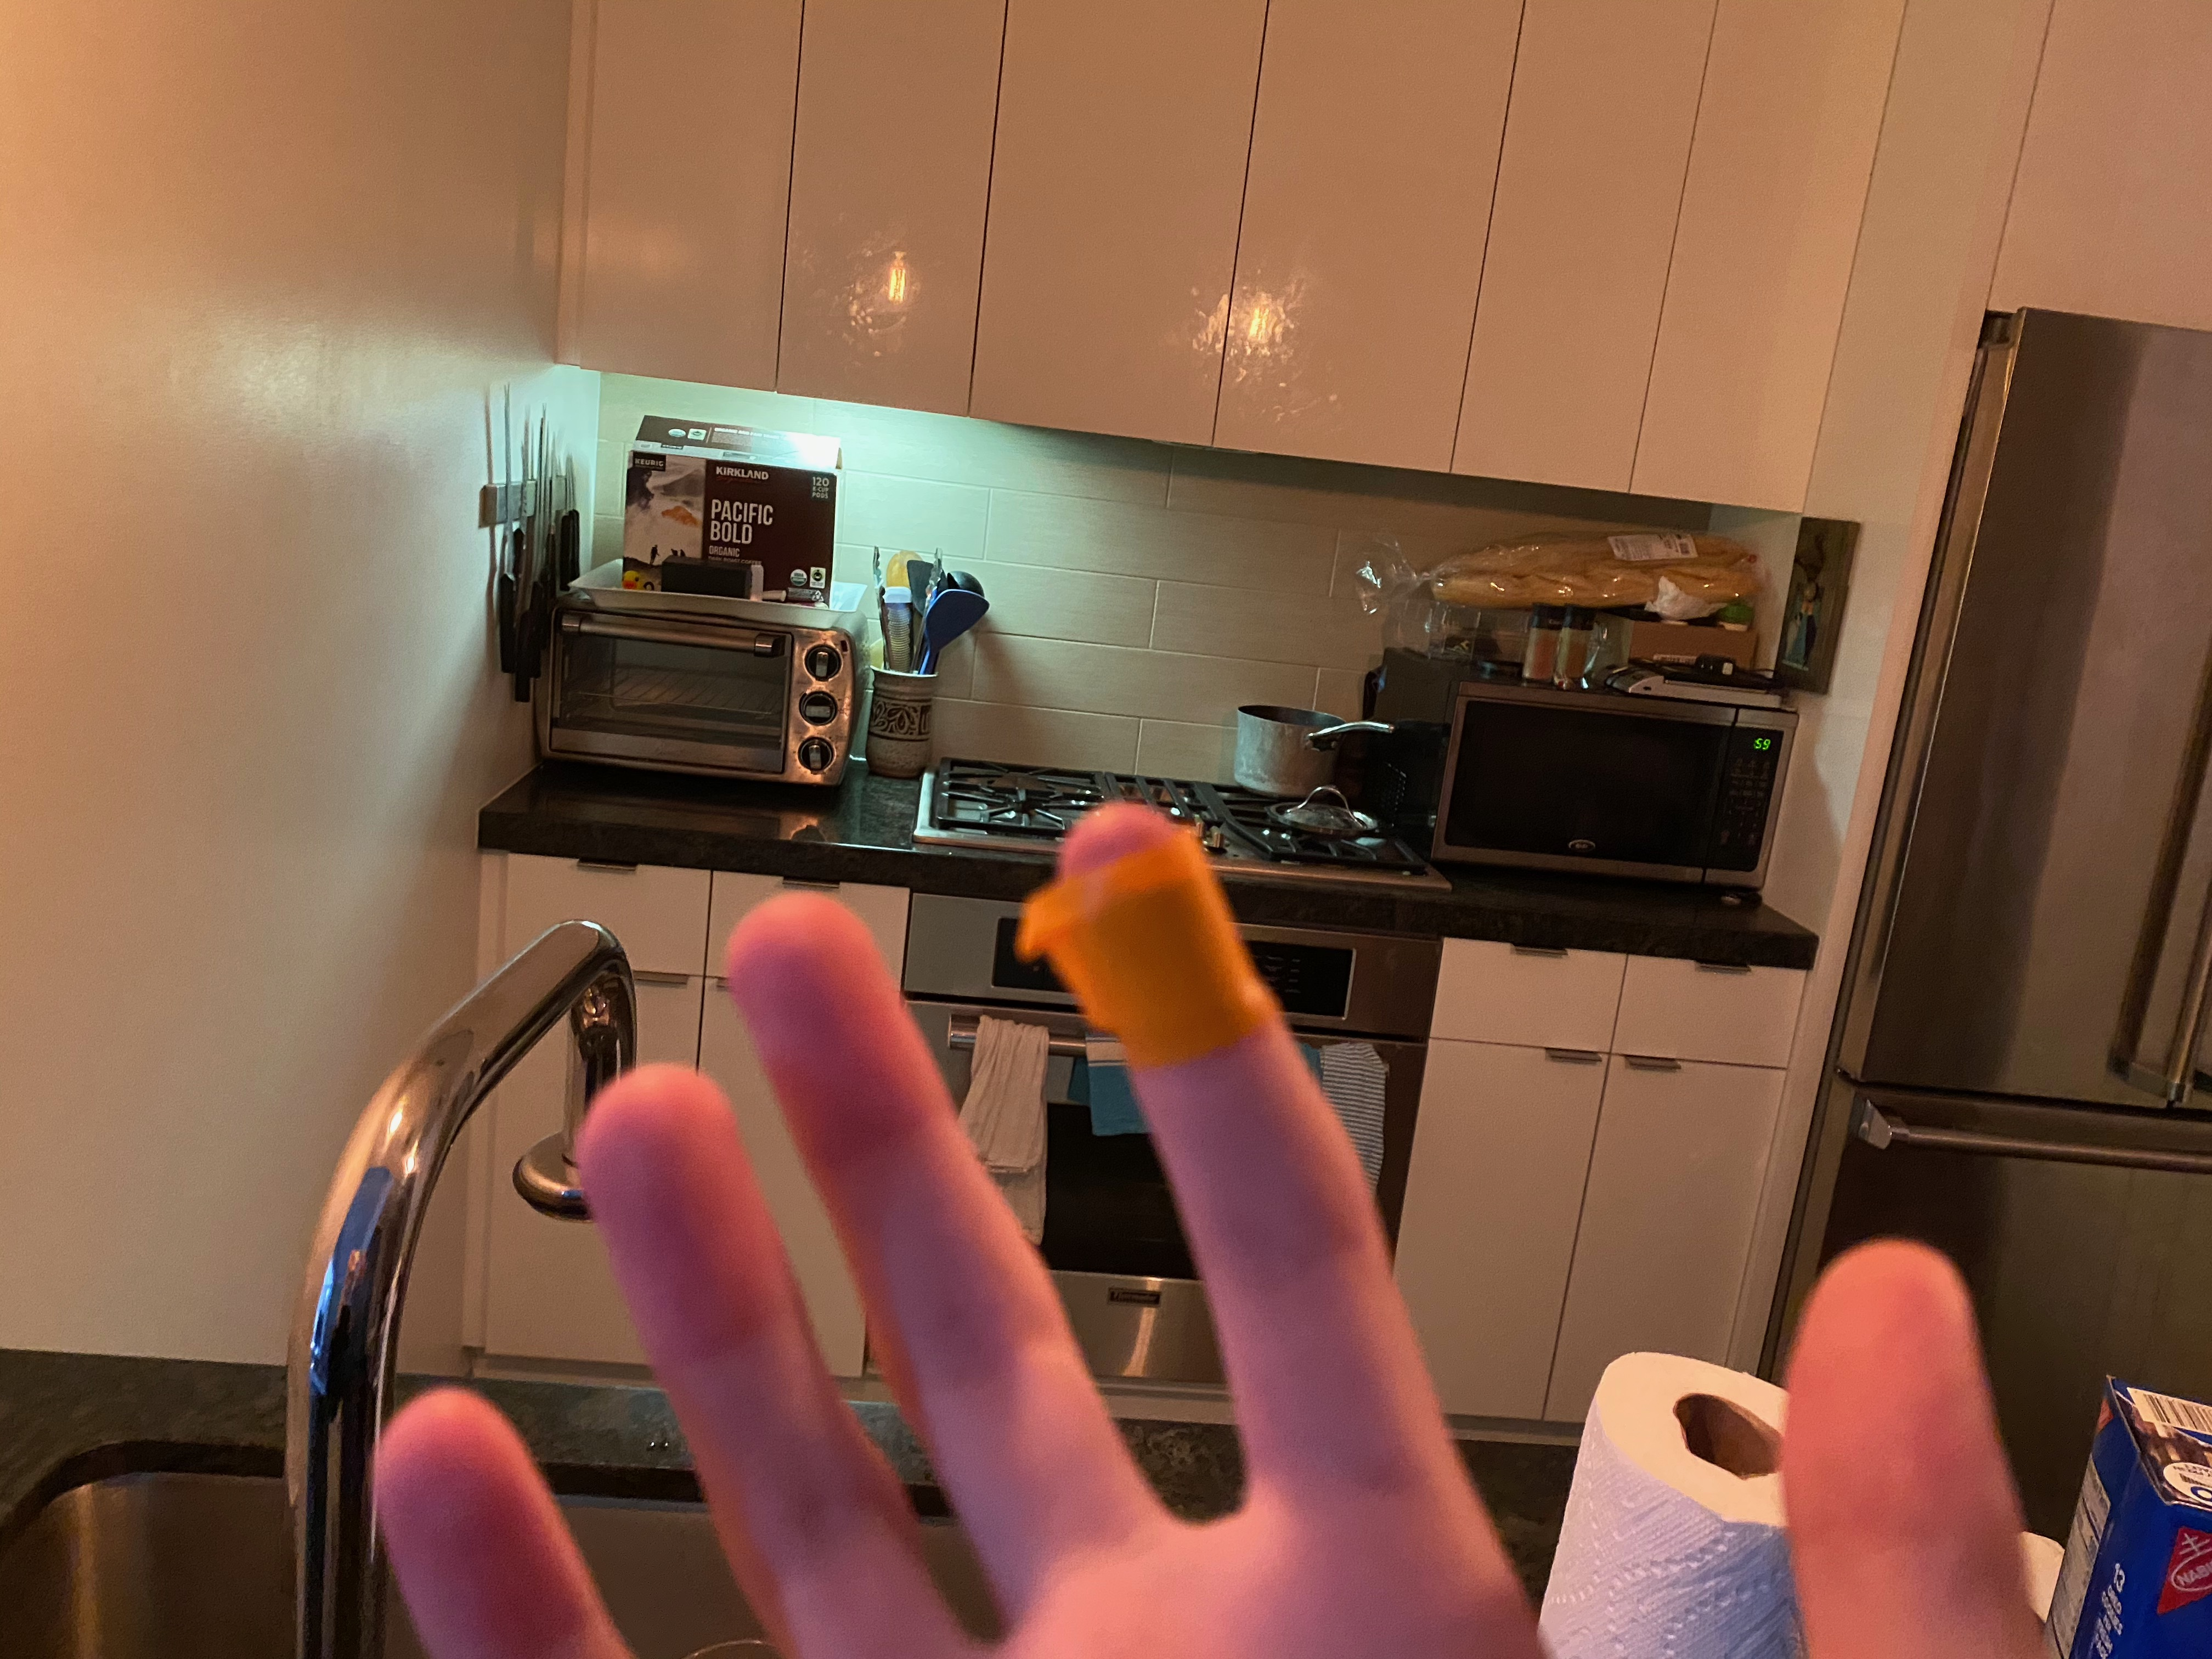fingertip: (1001, 789, 1280, 1127)
